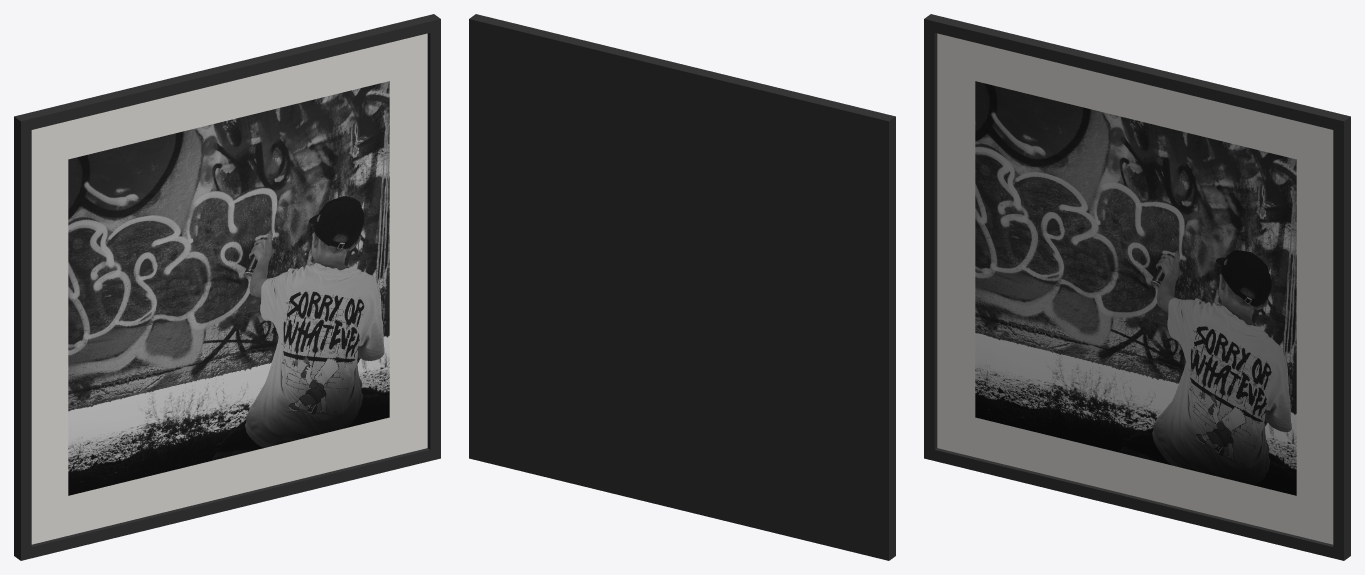
Rendered from taggen-60.gltf.
3 renders of one model, left to right at view 1: azimuth 30°, elevation 25°; view 2: azimuth 150°, elevation 25°; view 3: azimuth 330°, elevation 25°, orthographic.
Visible parts, largest first — view 1: tavla; view 2: tavla; view 3: tavla.
Part boxes in pixels (x1,y1,x2,y2): tavla: [14, 14, 440, 560]; tavla: [469, 14, 895, 560]; tavla: [924, 14, 1350, 560].
Size of the model in its own units: 0.784 by 0.784 by 0.022.
3 materials, 1 textured.
